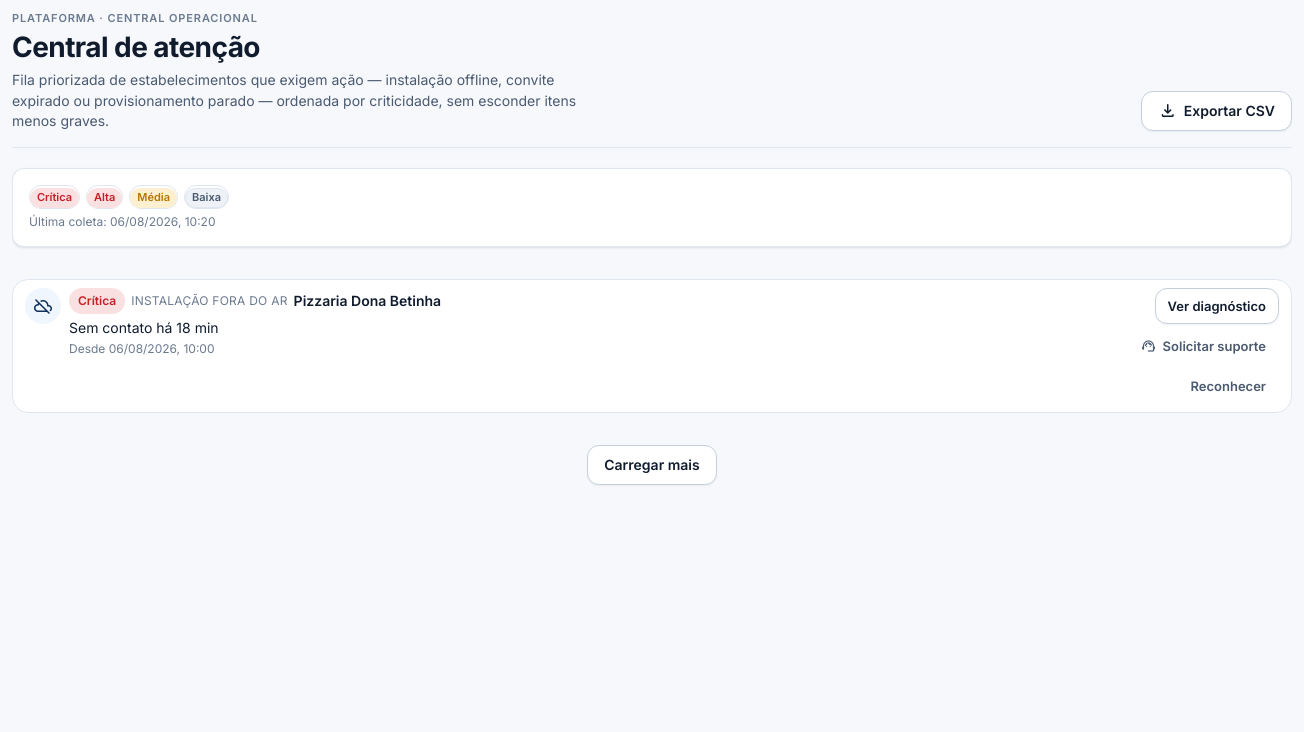
Test: PlatformAttentionPage › carregar mais envia o cursor recebido e acrescenta a próxima página sem duplicar a primeira
Click the button "Carregar mais" at (652, 465), box [587,445,717,485]
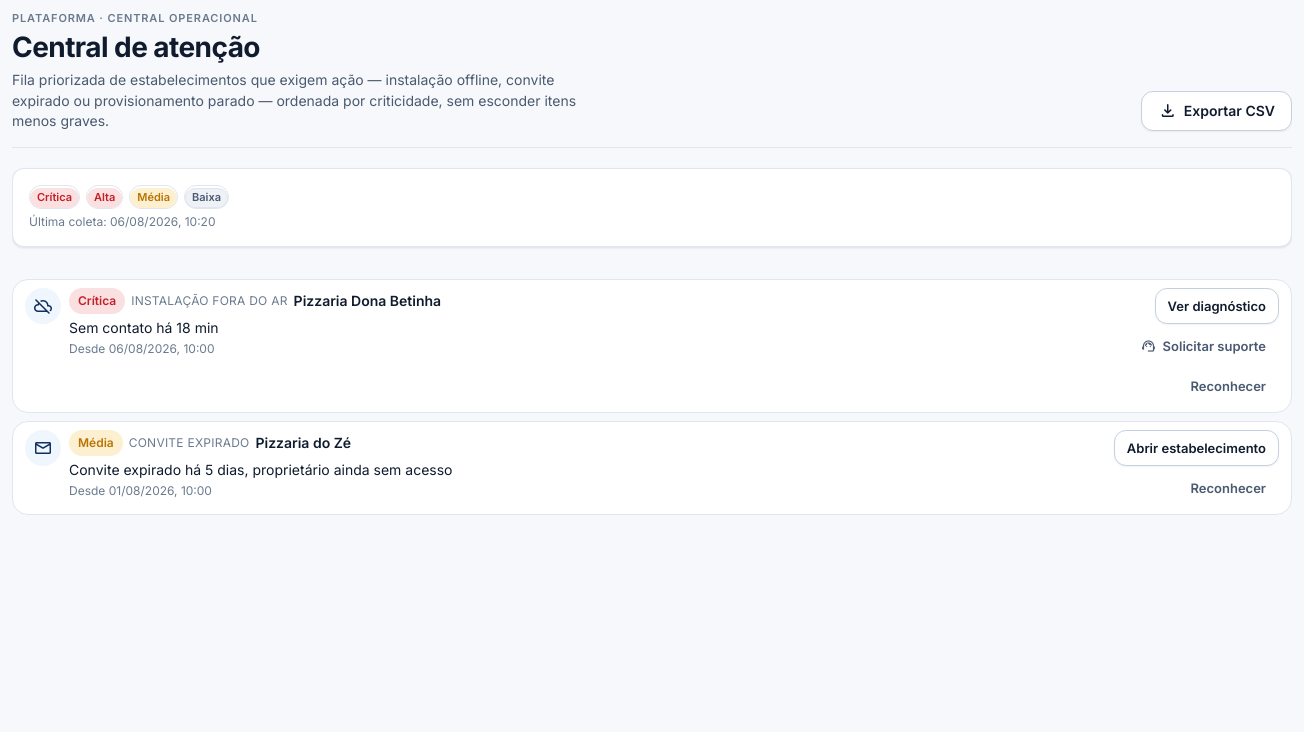
expect the text "Pizzaria Dona Betinha" is shown: met, box [294,291,441,311]
expect the number of list items is 2: met, box [12,279,1292,413]; [12,421,1292,515]
expect the text "Pizzaria do Zé" is shown: met, box [256,433,351,453]
